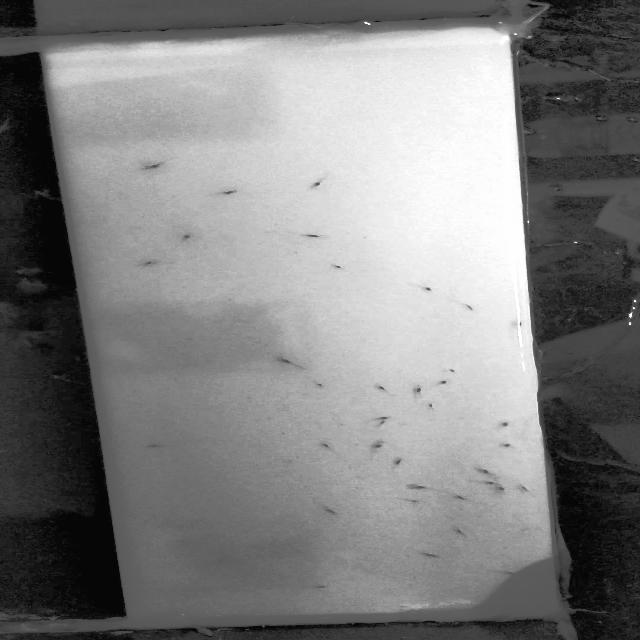shrimp: (456, 300, 489, 314), (314, 379, 344, 393), (326, 257, 353, 272), (270, 356, 300, 369), (307, 176, 331, 192), (132, 258, 163, 270), (316, 505, 342, 519), (135, 160, 168, 170), (443, 525, 470, 537), (171, 229, 195, 242), (496, 418, 520, 431), (309, 583, 339, 592), (452, 490, 472, 503), (418, 552, 448, 560), (370, 384, 392, 394), (419, 284, 437, 296), (315, 440, 333, 452), (365, 442, 389, 451), (207, 557, 236, 564), (220, 187, 238, 198), (408, 385, 426, 396), (474, 466, 496, 475), (435, 378, 454, 388), (444, 366, 466, 374), (301, 232, 322, 240), (480, 478, 501, 486), (374, 414, 397, 421), (391, 458, 406, 468), (144, 441, 162, 449), (498, 442, 516, 450), (502, 568, 520, 576), (426, 400, 440, 410), (407, 484, 433, 489), (496, 486, 514, 492)
